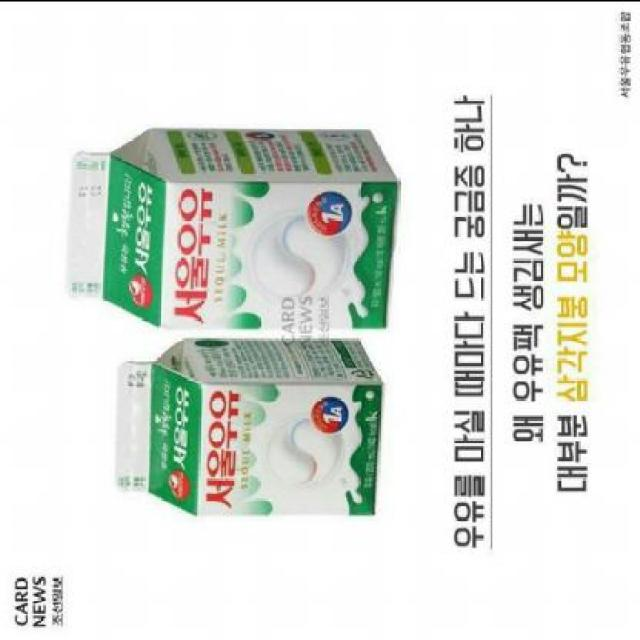non_white_jug: (42, 115, 403, 333), (100, 333, 397, 525)
